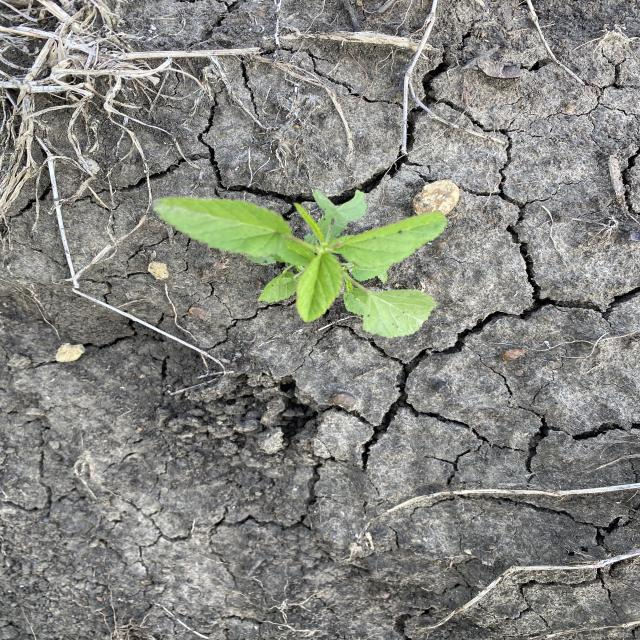PricklySida: (148, 186, 450, 341)
